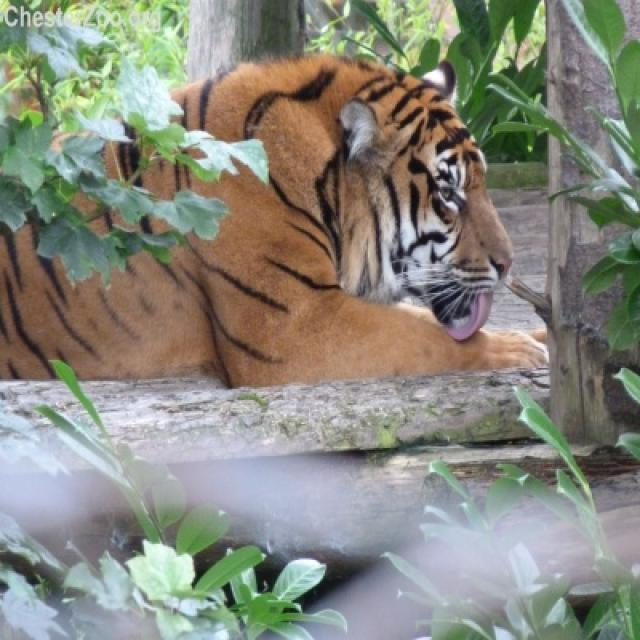Tiger: (0, 56, 550, 386)
